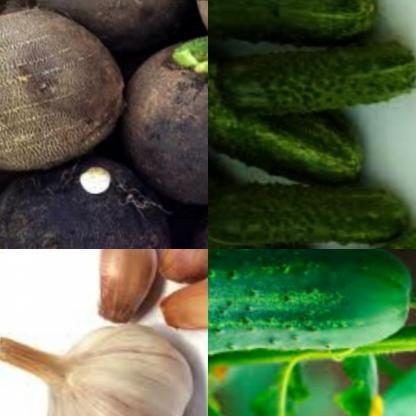cucumber: (208, 20, 371, 194), (208, 249, 416, 377), (210, 33, 416, 116), (208, 101, 323, 249), (208, 174, 414, 249), (208, 0, 408, 62)
garlic: (0, 319, 192, 416), (81, 249, 161, 329), (145, 272, 208, 337), (148, 249, 208, 288)
redka: (0, 4, 125, 167), (113, 28, 208, 208), (0, 148, 167, 249), (25, 0, 200, 57), (0, 0, 39, 38)
